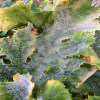Squash Powdery mildew leaf: (1, 1, 99, 99), (1, 71, 36, 99)
